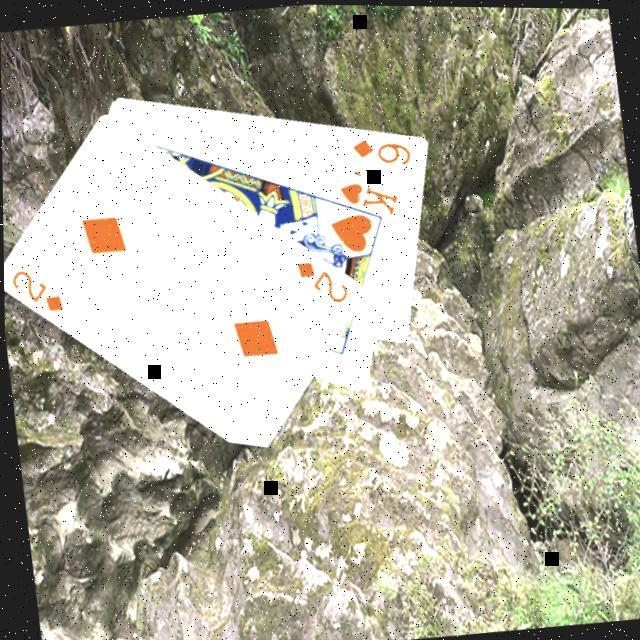2D: (290, 250, 352, 308), (4, 260, 66, 318)
6D: (347, 128, 414, 171)
KH: (333, 172, 402, 221)
